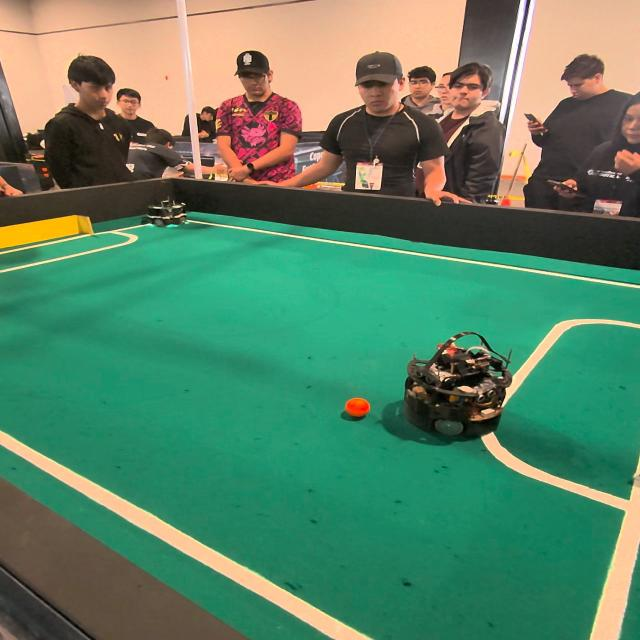Robot: (406, 325, 512, 447), (147, 178, 190, 229)
pelota: (344, 398, 371, 419)
